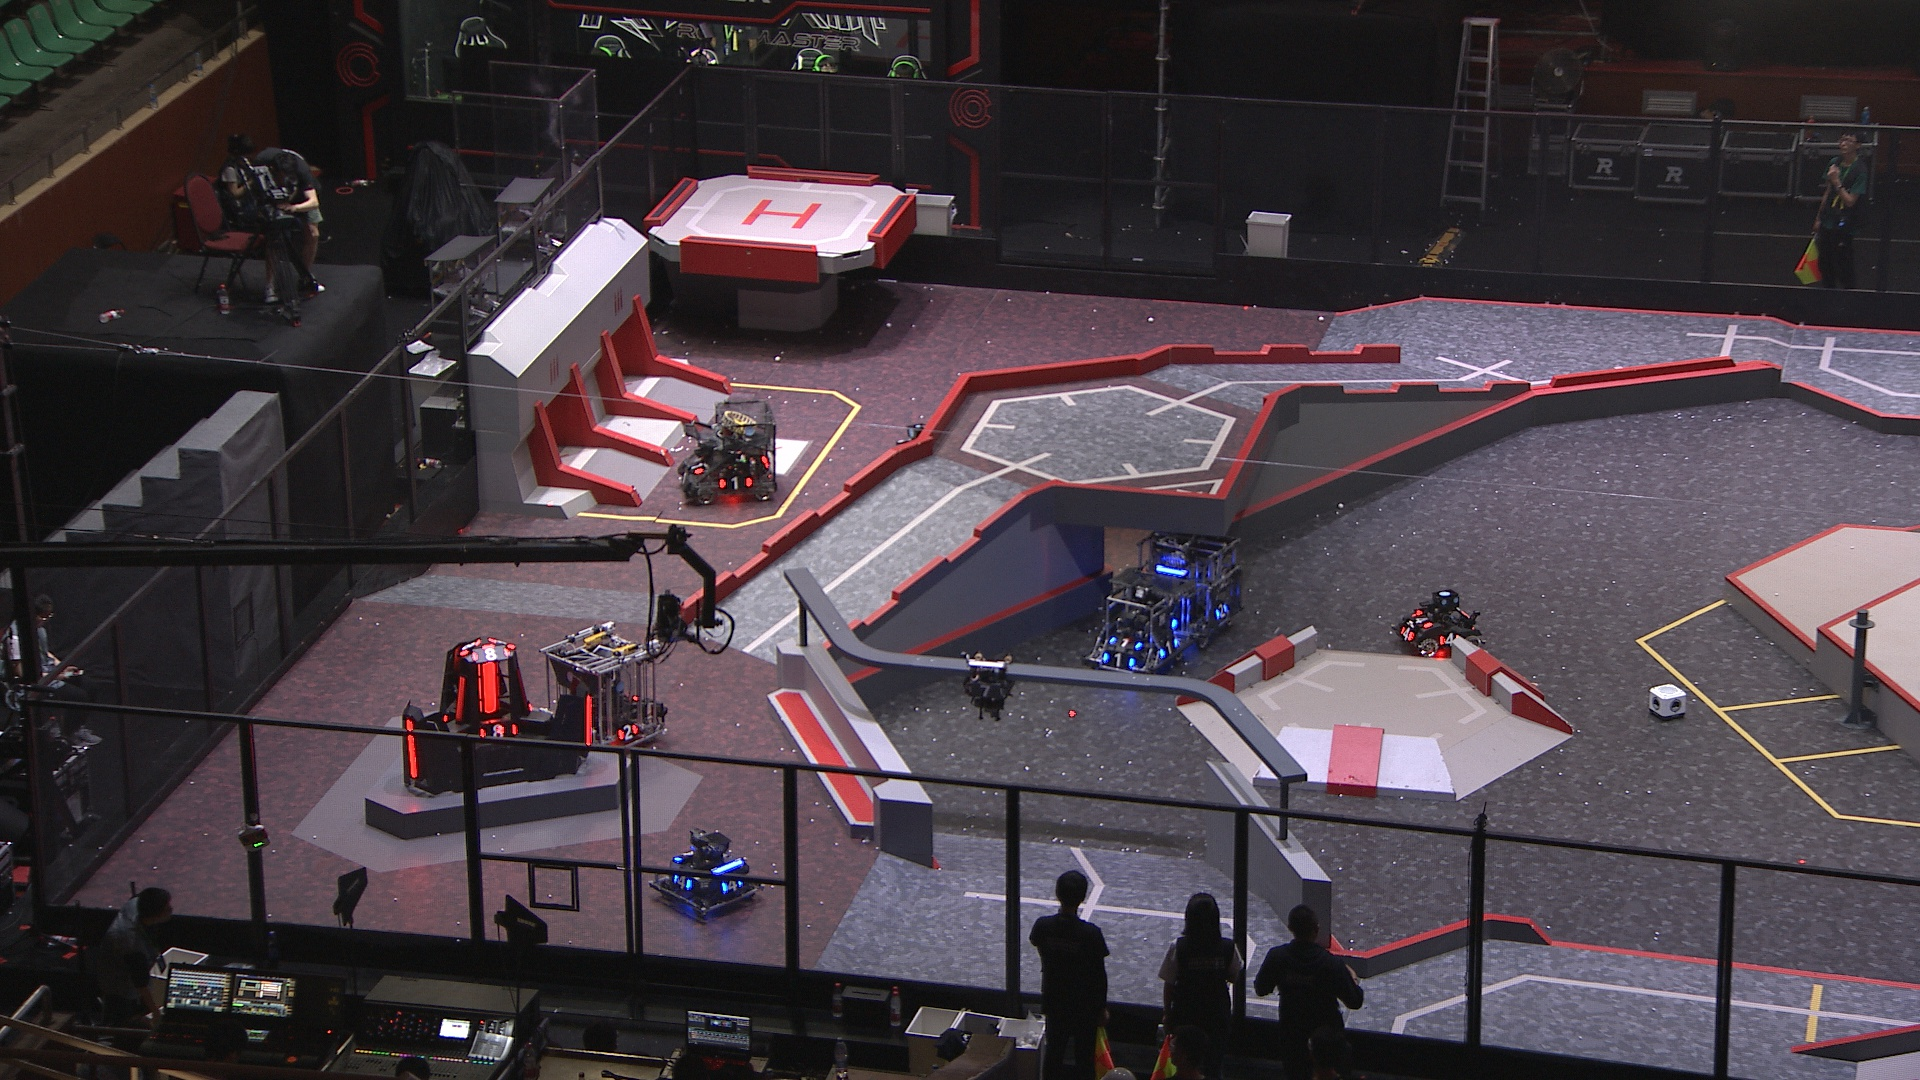armor: (476, 661, 502, 713), (404, 716, 419, 779), (477, 723, 520, 741), (471, 647, 513, 661), (1098, 654, 1135, 669), (719, 476, 756, 491), (613, 723, 640, 742), (968, 684, 1004, 699), (1154, 638, 1178, 659), (1106, 637, 1141, 651), (584, 694, 593, 746), (455, 676, 465, 723), (673, 873, 694, 891), (1437, 632, 1461, 647), (1410, 611, 1432, 626), (721, 878, 744, 894), (688, 460, 707, 479), (458, 641, 476, 657), (1400, 624, 1416, 642), (1215, 603, 1232, 618), (674, 851, 695, 862)
base: (398, 636, 597, 799)
car: (539, 621, 666, 756), (1129, 524, 1245, 645), (1081, 567, 1197, 678), (650, 825, 766, 920), (675, 400, 781, 504), (1389, 588, 1486, 661)
watcher: (957, 651, 1017, 723)
